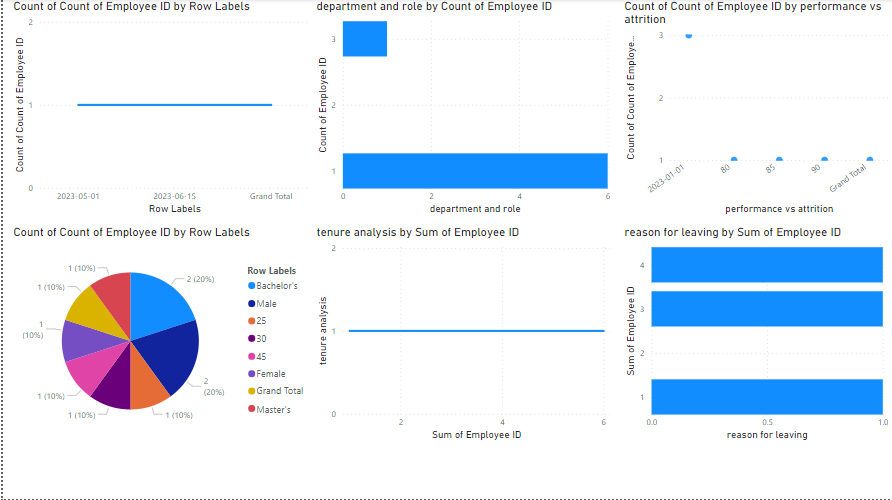

The page's visual inventory and layout, read from the dashboard file:
{"tool":"powerbi","page":{"name":"Page 1","canvas":[1280,720],"ordinal":0},"visuals":[{"type":"lineChart","fields":{"Y":["CountNonNull(overall attrition rate.Count of Employee ID)"],"Category":["overall attrition rate.Row Labels"]},"box":[10,0,436.7,315],"z":0},{"type":"barChart","fields":{"Category":["by department and role.Count of Employee ID"],"Y":["CountNonNull(by department and role.Row Labels)"]},"box":[446.7,0,433.3,315],"z":1000},{"type":"pieChart","fields":{"Y":["CountNonNull(by demographics.Count of Employee ID)"],"Category":["by demographics.Row Labels"]},"box":[10,325,436.7,315],"z":2000},{"type":"lineChart","fields":{"Y":["CountNonNull(tenure analysis.Row Labels)"],"Category":["tenure analysis.Sum of Employee ID"]},"box":[446.7,325,433.3,315],"z":3000},{"type":"scatterChart","fields":{"X":["performance vs attrition.Row Labels"],"Y":["CountNonNull(performance vs attrition.Count of Employee ID)"]},"box":[890,0,390,315],"z":4000},{"type":"barChart","fields":{"Y":["CountNonNull(reasons for leaving.Row Labels)"],"Category":["reasons for leaving.Sum of Employee ID"]},"box":[890,325,390,315],"z":4001}]}

Visuals, with their boxes in screenshot pixels (x1, y1, x2, y2), scaled from the page's 1280x720 canvas onto the 892x500 screenshot:
lineChart - CountNonNull(overall attrition rate.Count of Employee ID) x overall attrition rate.Row Labels: left=7, top=0, right=311, bottom=219
barChart - by department and role.Count of Employee ID x CountNonNull(by department and role.Row Labels): left=311, top=0, right=613, bottom=219
pieChart - CountNonNull(by demographics.Count of Employee ID) x by demographics.Row Labels: left=7, top=226, right=311, bottom=444
lineChart - CountNonNull(tenure analysis.Row Labels) x tenure analysis.Sum of Employee ID: left=311, top=226, right=613, bottom=444
scatterChart - performance vs attrition.Row Labels x CountNonNull(performance vs attrition.Count of Employee ID): left=620, top=0, right=891, bottom=219
barChart - CountNonNull(reasons for leaving.Row Labels) x reasons for leaving.Sum of Employee ID: left=620, top=226, right=891, bottom=444
